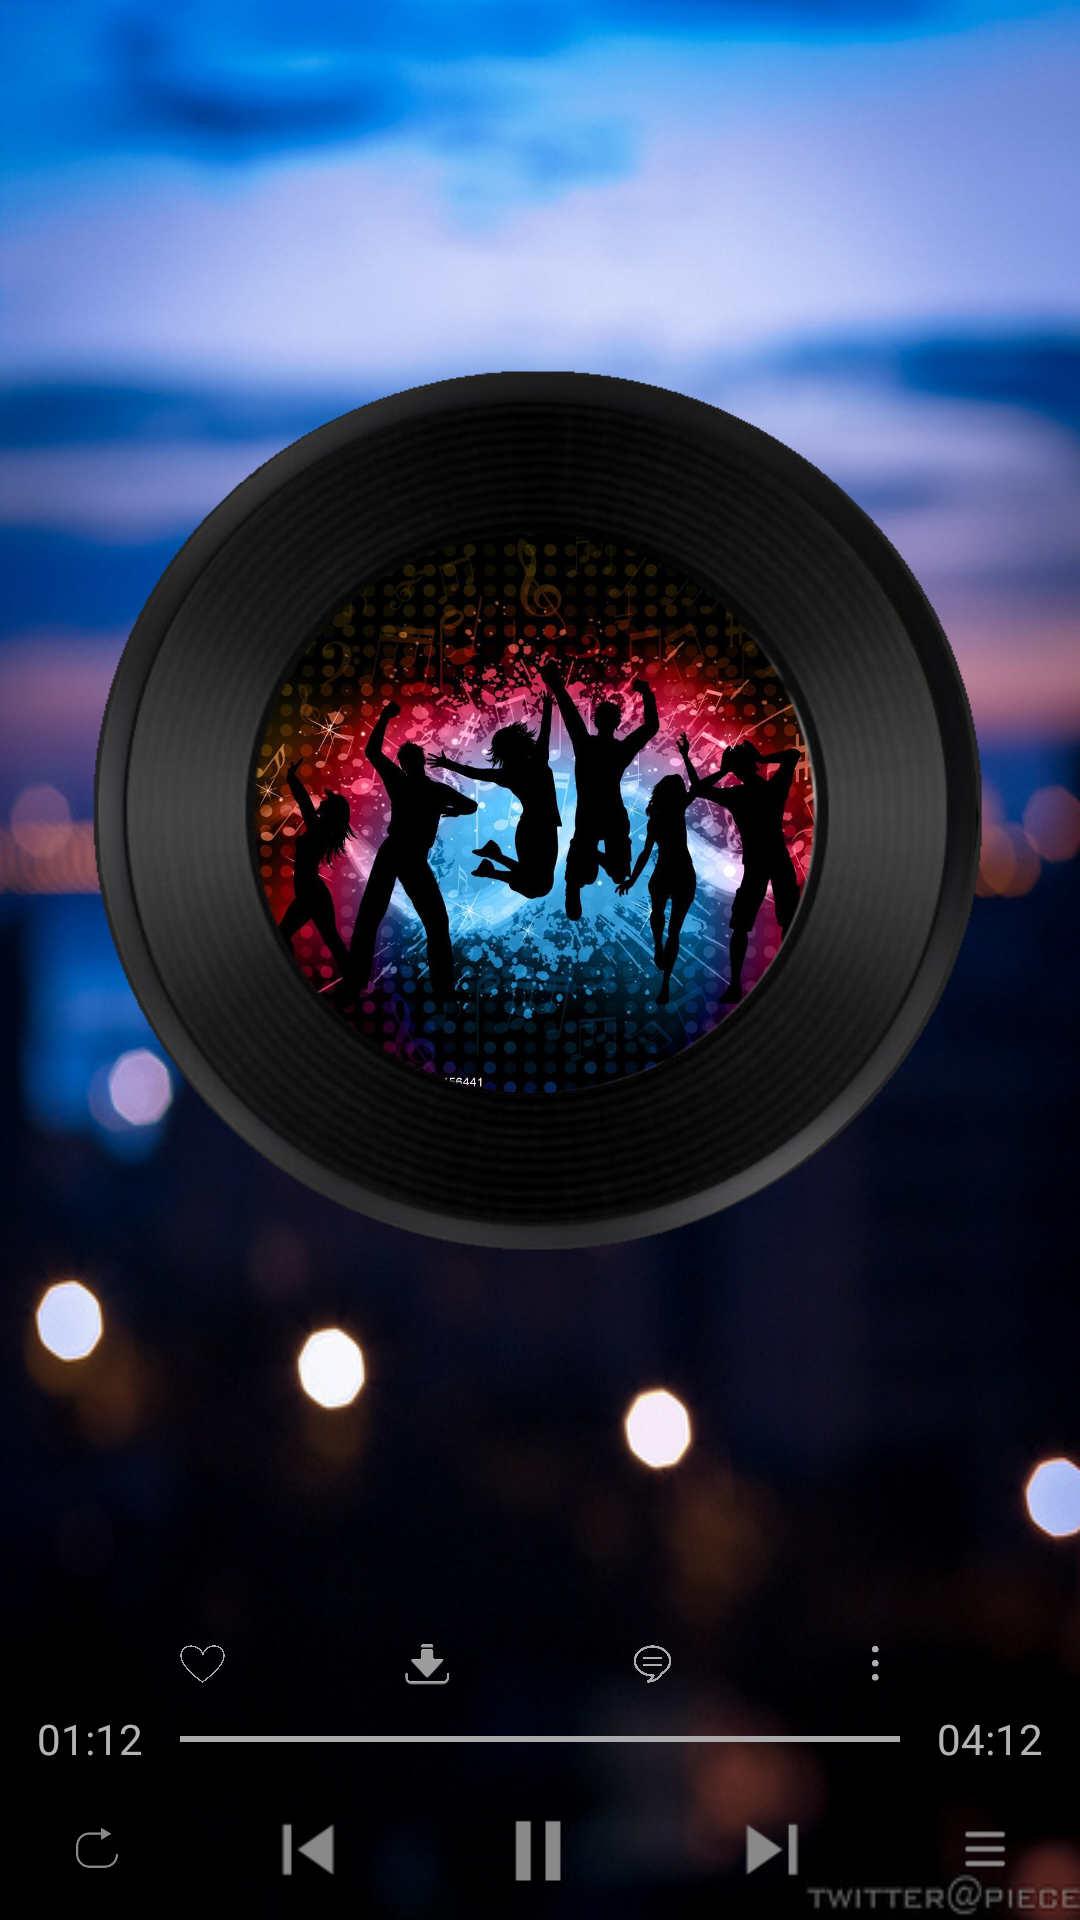

Screen size 1080 × 1920. Icon name, then its box in pixels as [x1,y1,x2,y2]:
download: [405,1644,449,1685]
favorite: [180,1645,225,1683]
loop: [76,1828,118,1868]
message: [634,1645,671,1683]
more: [872,1646,879,1681]
previous: [282,1824,334,1875]
